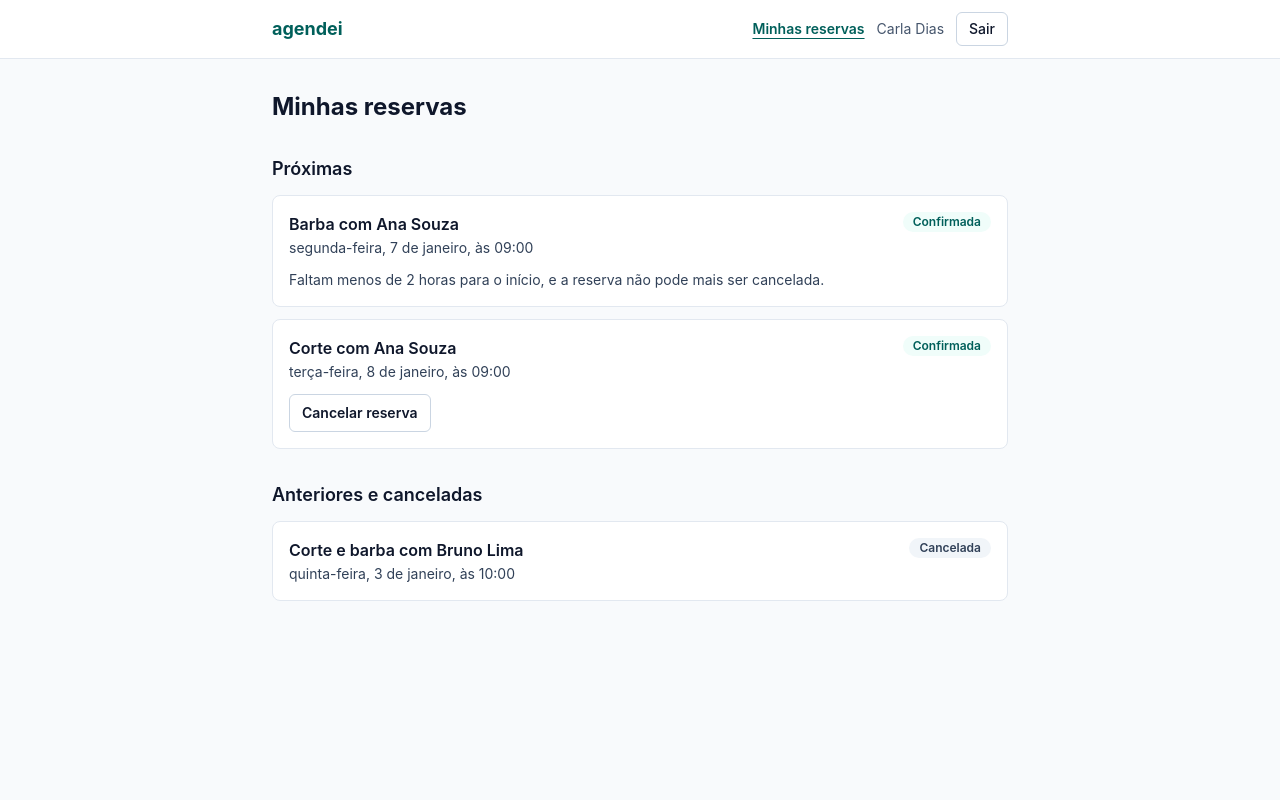
Test: minhas reservas › a API recusa o cancelamento: mostra o motivo dela
What coordinates should you click on to do the following:
click the button named "Cancelar reserva de Corte, terça-feira, 8 de janeiro, às 09:00"
I would click on:
 (360, 413)
Its box is [289, 394, 431, 432].
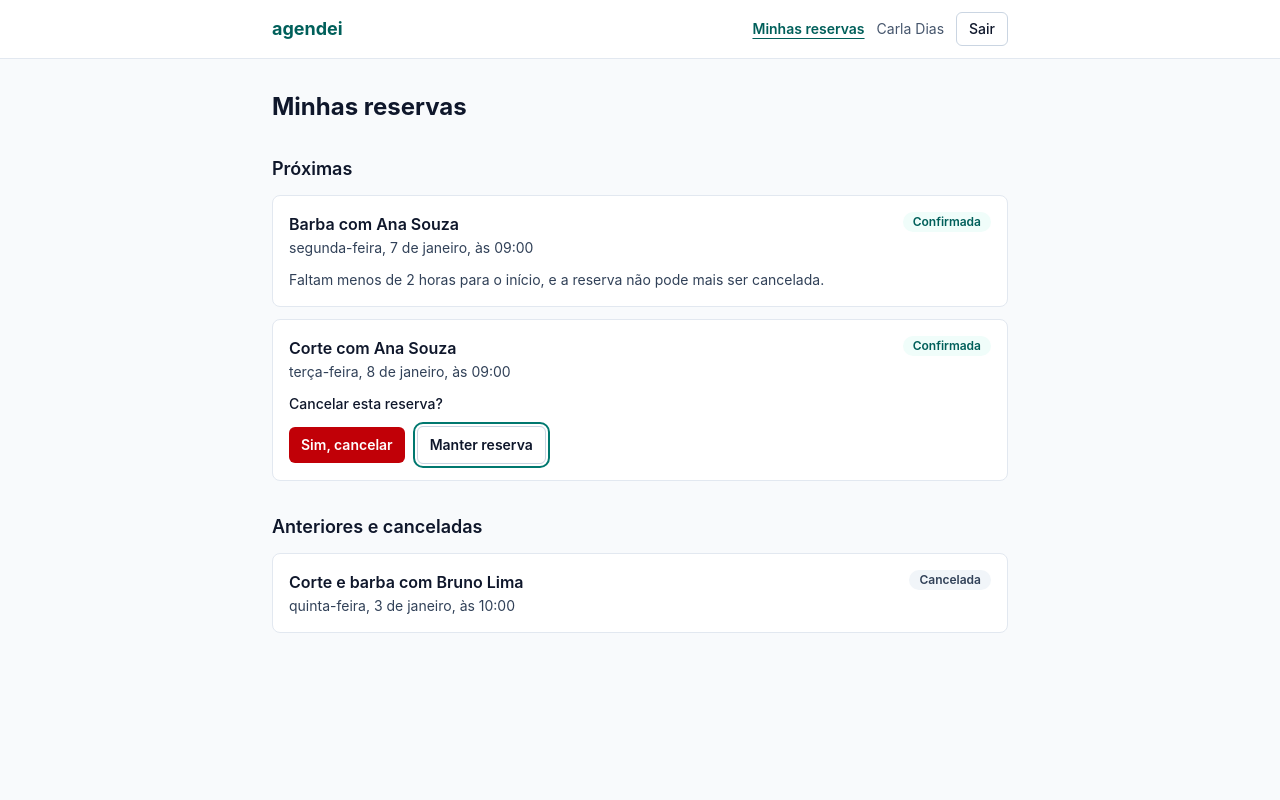
What coordinates should you click on to do the following:
click the button "Sim, cancelar"
I would click on:
 (347, 445)
Its box is [289, 427, 405, 463].
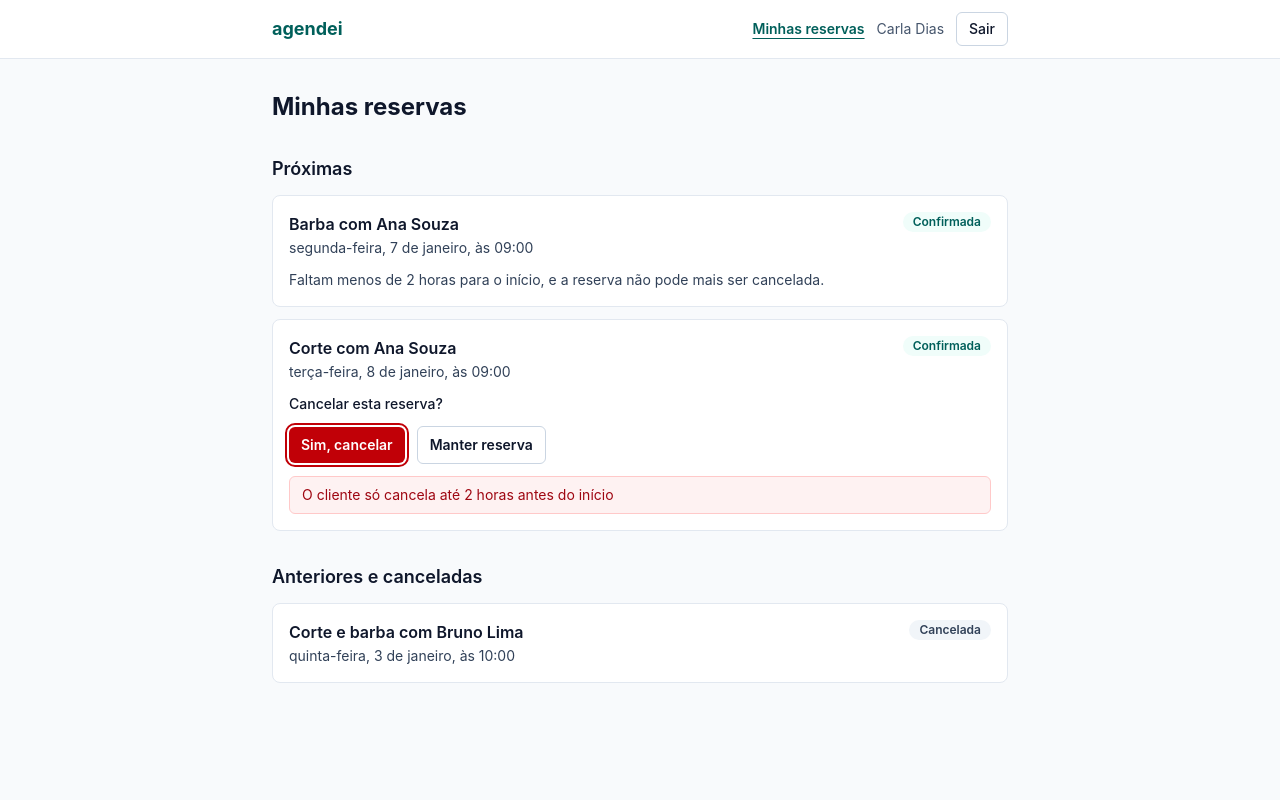
Now the message reads "O cliente só cancela até 2 horas antes do início", box [302, 486, 614, 503]
